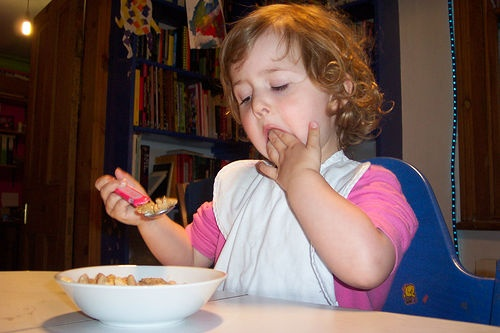head: (219, 2, 382, 163)
person: (86, 0, 424, 333)
